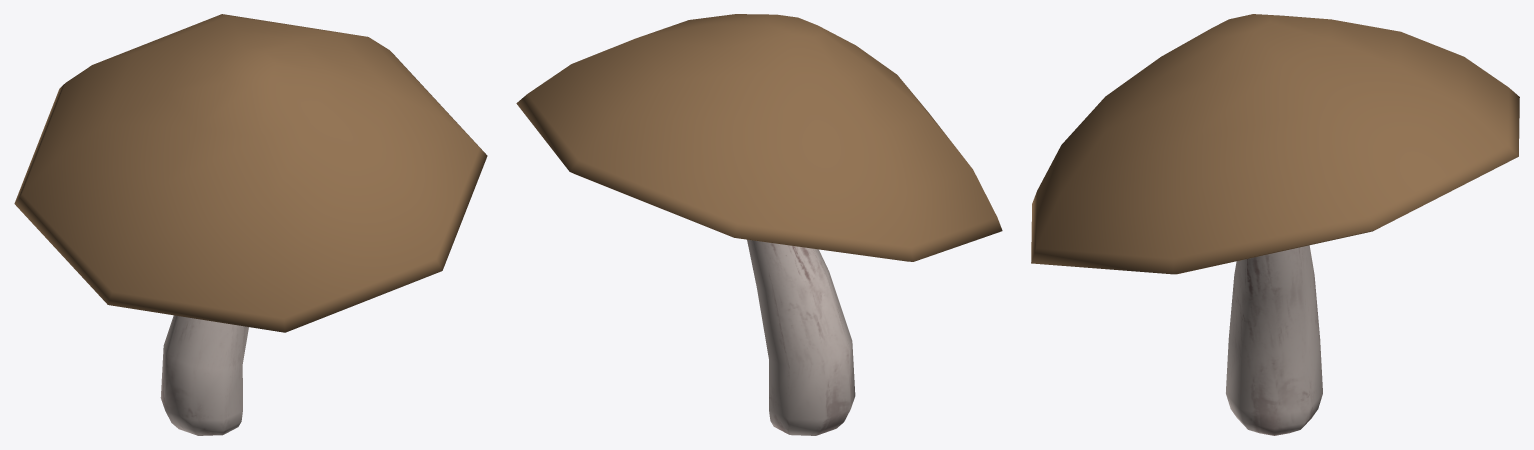
File: Mushroom_medium_4.fbx
3 views of the same model, side by side, from view 1: azimuth 30°, elevation 25°; view 2: azimuth 150°, elevation 25°; view 3: azimuth 270°, elevation 25° (orthographic). The views are drawn at different scales.
Visible parts, largest first — view 1: Mushroom_medium_4; view 2: Mushroom_medium_4; view 3: Mushroom_medium_4.
Part boxes in pixels (x1,y1,x2,y2): Mushroom_medium_4: (14, 14, 487, 435); Mushroom_medium_4: (516, 14, 1002, 435); Mushroom_medium_4: (1031, 14, 1519, 435).
Size of the model in its own units: 14.54 by 13.62 by 14.18.
